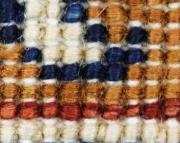Knot: (84, 30, 99, 42), (39, 86, 54, 96), (84, 82, 97, 92), (125, 106, 138, 115), (41, 96, 54, 105), (54, 69, 64, 79), (41, 106, 50, 116), (79, 66, 88, 76), (127, 97, 138, 105)
